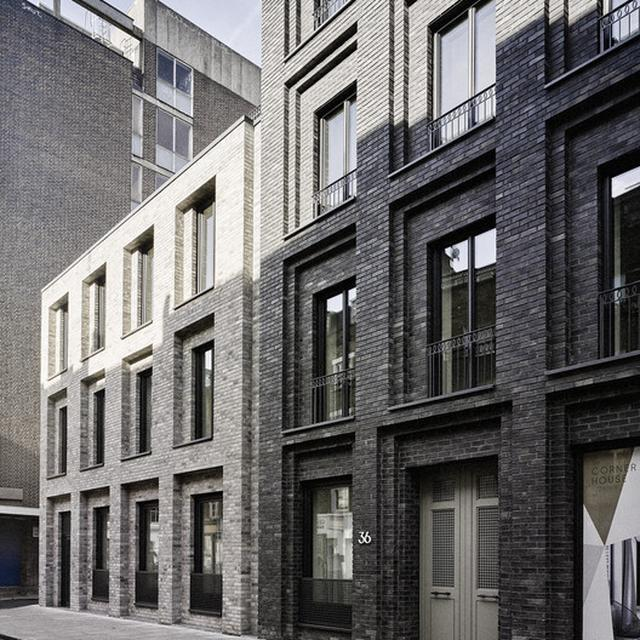building: (258, 0, 640, 640), (0, 0, 260, 508), (38, 114, 254, 637)
